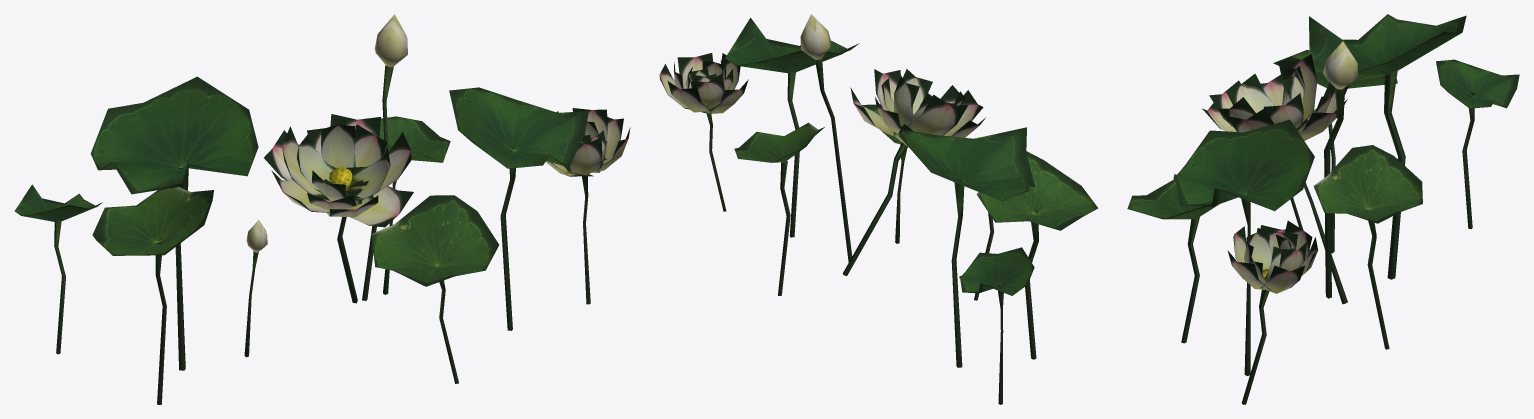
The model's file is CLX_zhiwu_05.FBX.
The picture shows the model from 3 angles, left to right: view 1: azimuth 30°, elevation 25°; view 2: azimuth 150°, elevation 25°; view 3: azimuth 270°, elevation 25°; orthographic projection. The views are drawn at different scales.
Visible parts, largest first — view 1: CLX_zhiwu_05; view 2: CLX_zhiwu_05; view 3: CLX_zhiwu_05.
Boxes of the visible parts, <box> form: CLX_zhiwu_05: <box>14,14,630,404</box>; CLX_zhiwu_05: <box>659,14,1098,404</box>; CLX_zhiwu_05: <box>1127,14,1519,404</box>.
Bounding box in the file's own units: 2.42 × 1.51 × 1.62.
